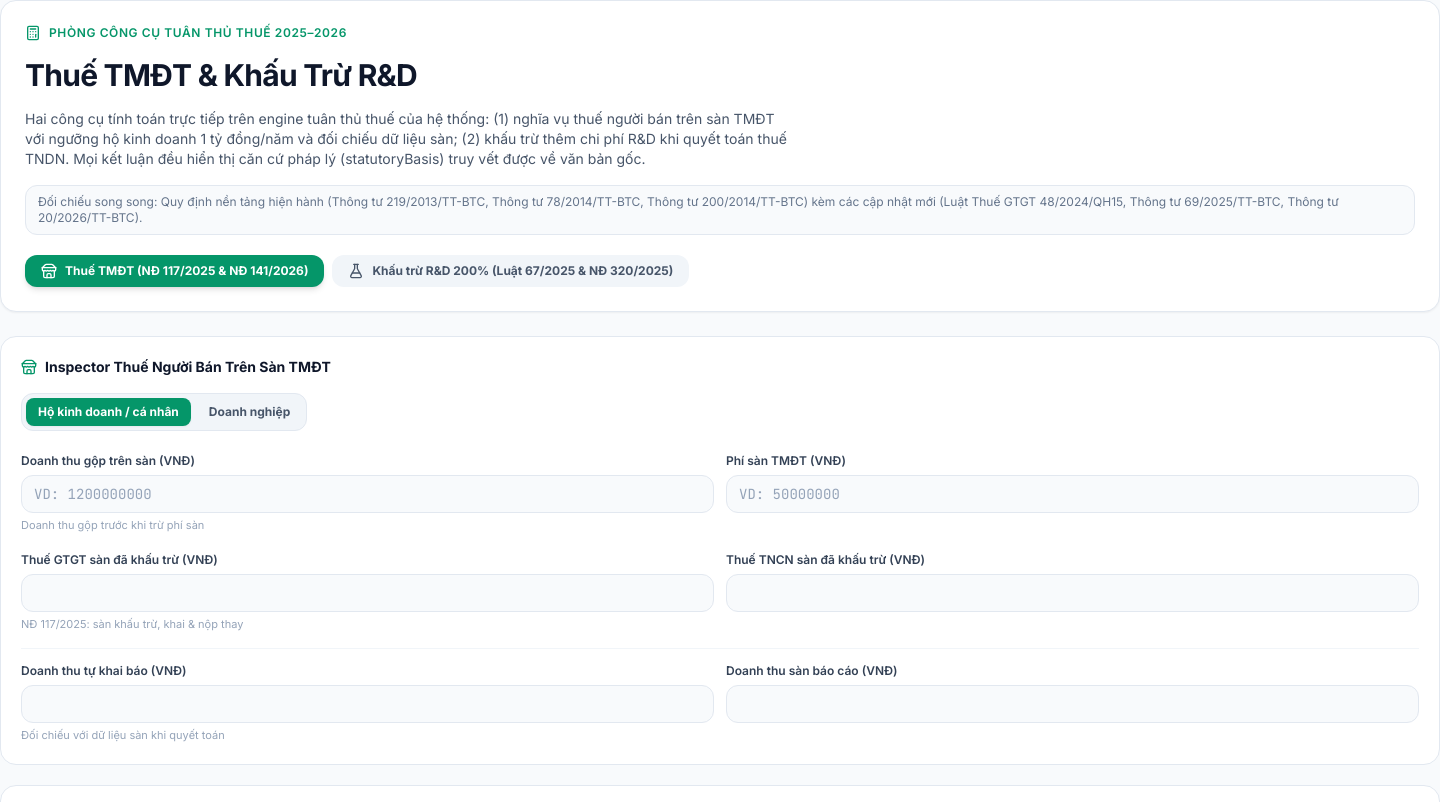
Test: TAX COMPLIANCE TOOLS UI WRAPPER › shows error state for invalid (negative) input in both tools
The width and height of the screenshot is (1440, 802).
In the 1st number field: {"x": 368, "y": 494} 21,475 -> 714,513, type "-5"
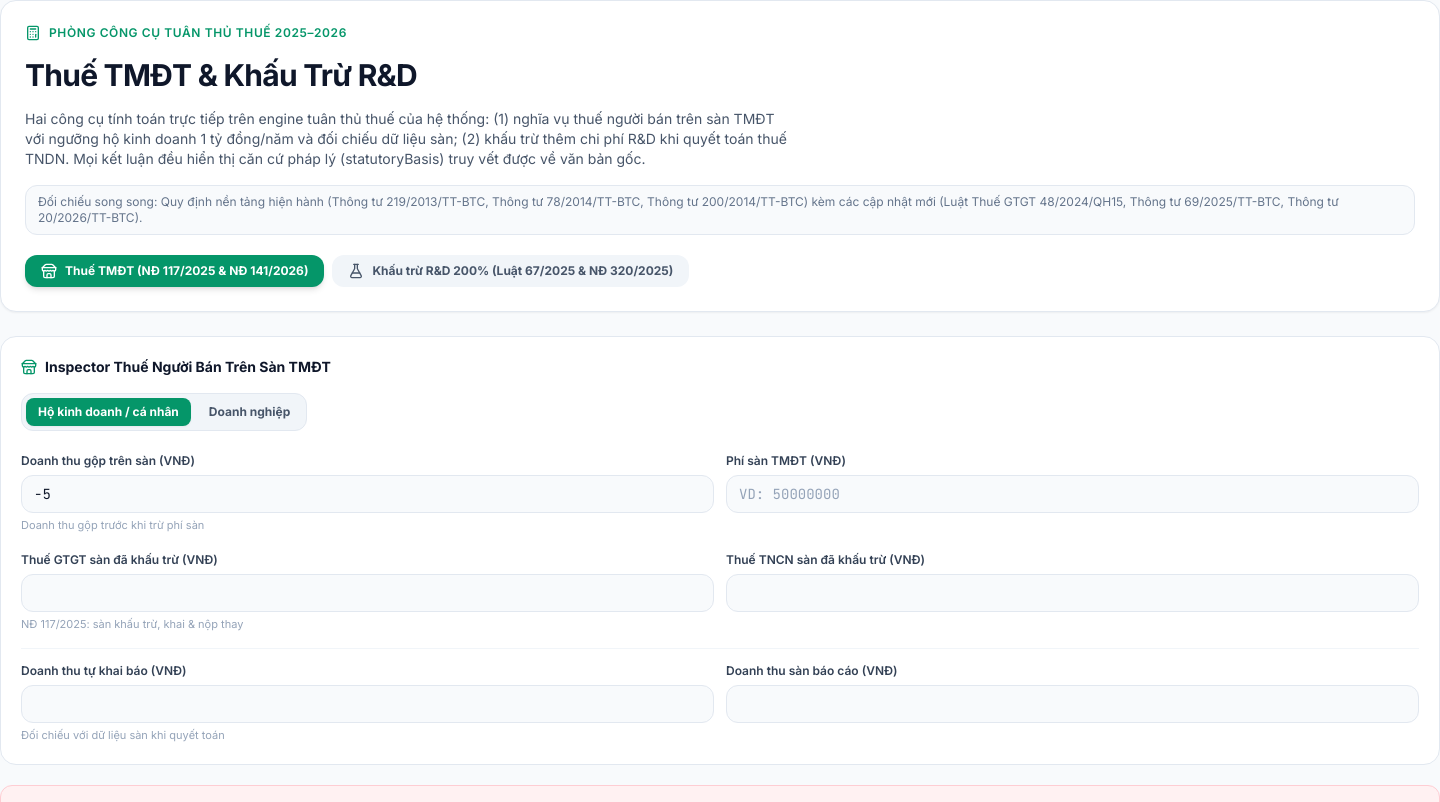
Click the button with test id "tool-tab-rd": {"x": 511, "y": 271} 332,255 -> 689,287
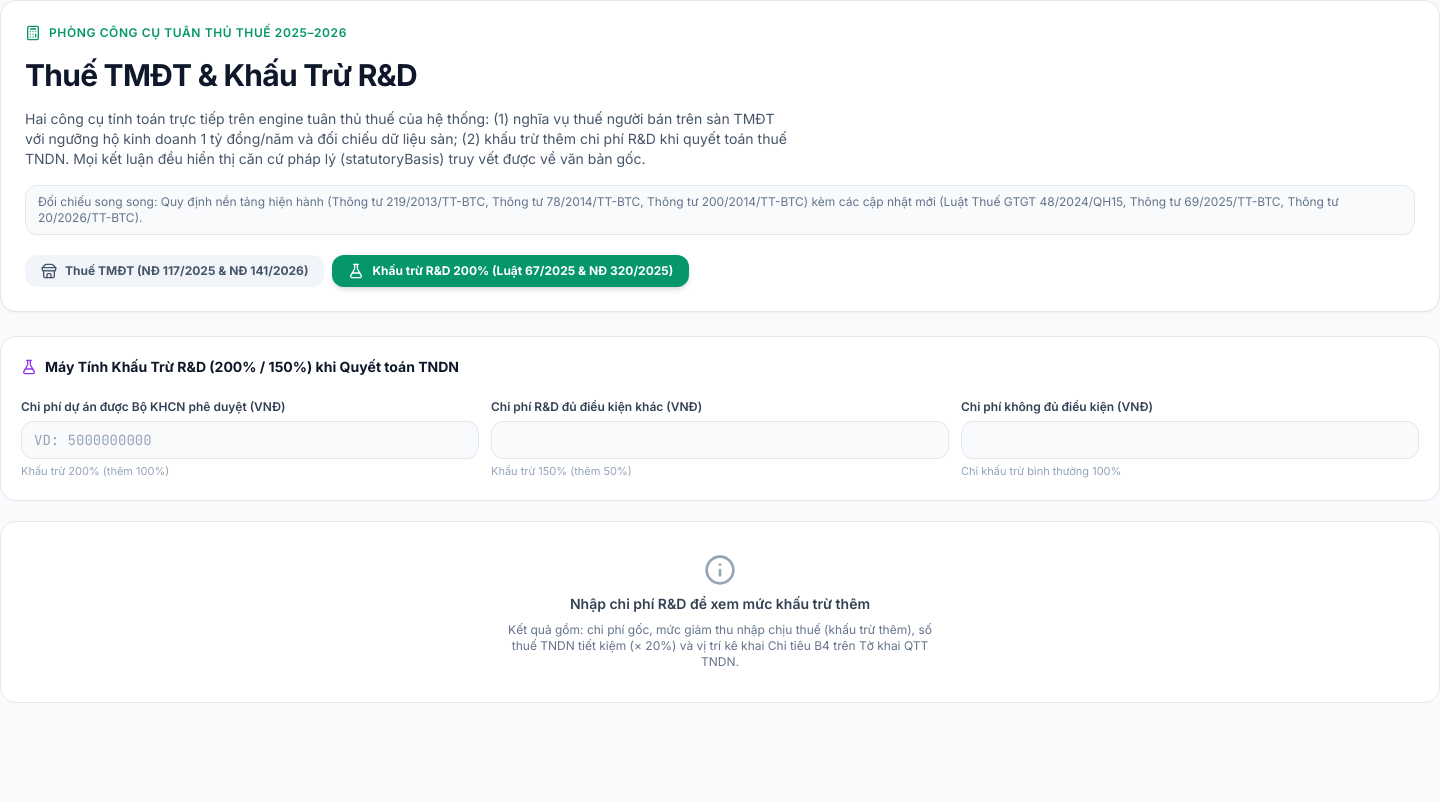
In the 1st number field: {"x": 250, "y": 440} 21,421 -> 479,459, type "-1000"
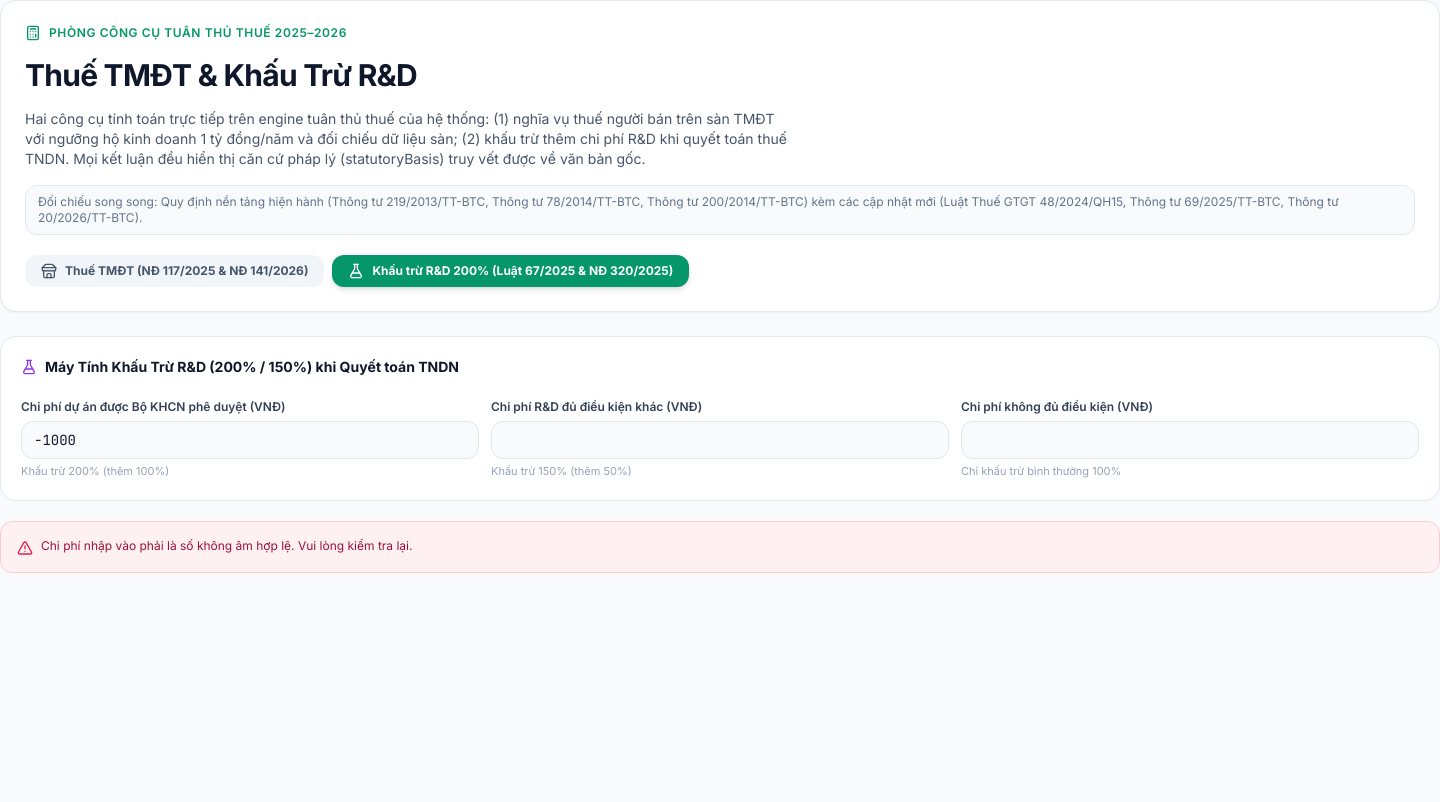
expect the element with test id "rd-error-state" is shown: met, box 0,520 -> 1439,572
